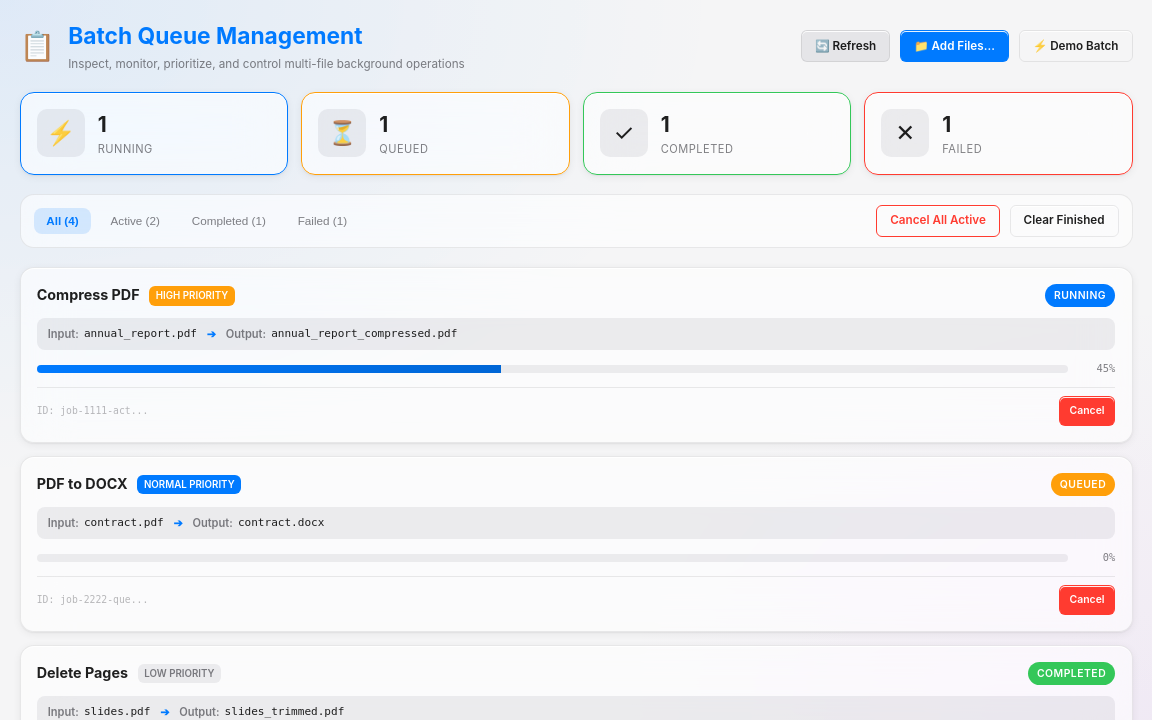
BatchQueueView › filters queue by status tabs
Step 1. Click the button with test id "filter-active" → x=135, y=221, box [98,208,172,234]
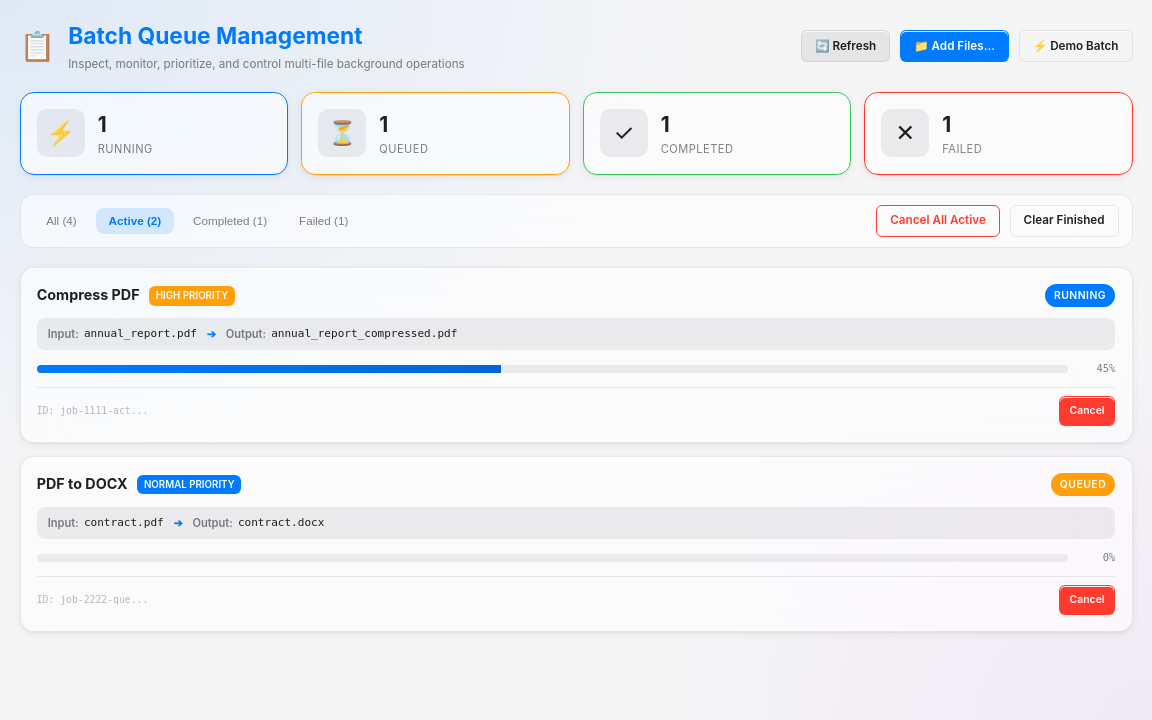
Expected: the text "Compress PDF" is shown, [37,286,140,306]
Expected: the text "PDF to DOCX" is shown, [37,474,128,495]
Filter: Completed (1)
Step 2. Click the button with test id "filter-completed" → x=230, y=221, box [180,208,280,234]
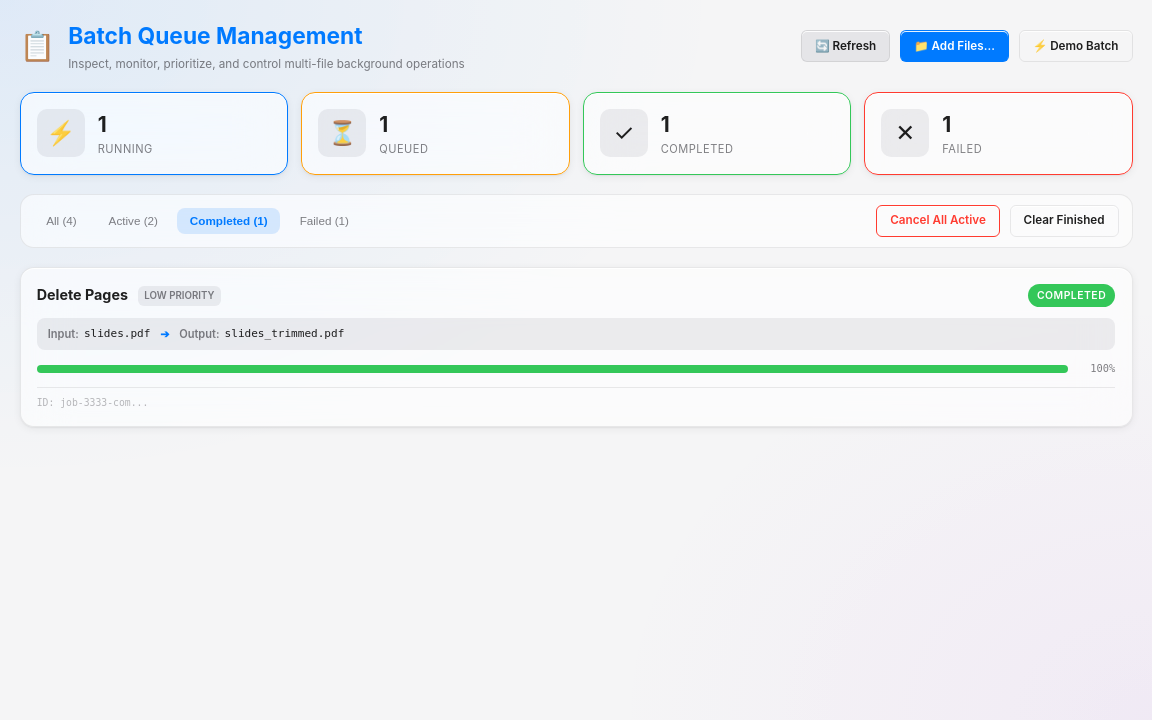
Result: the text "Delete Pages" is shown at [37,286,128,306]
Filter: Failed (1)
Step 3. Click the button with test id "filter-failed" → x=324, y=221, box [287,208,362,234]
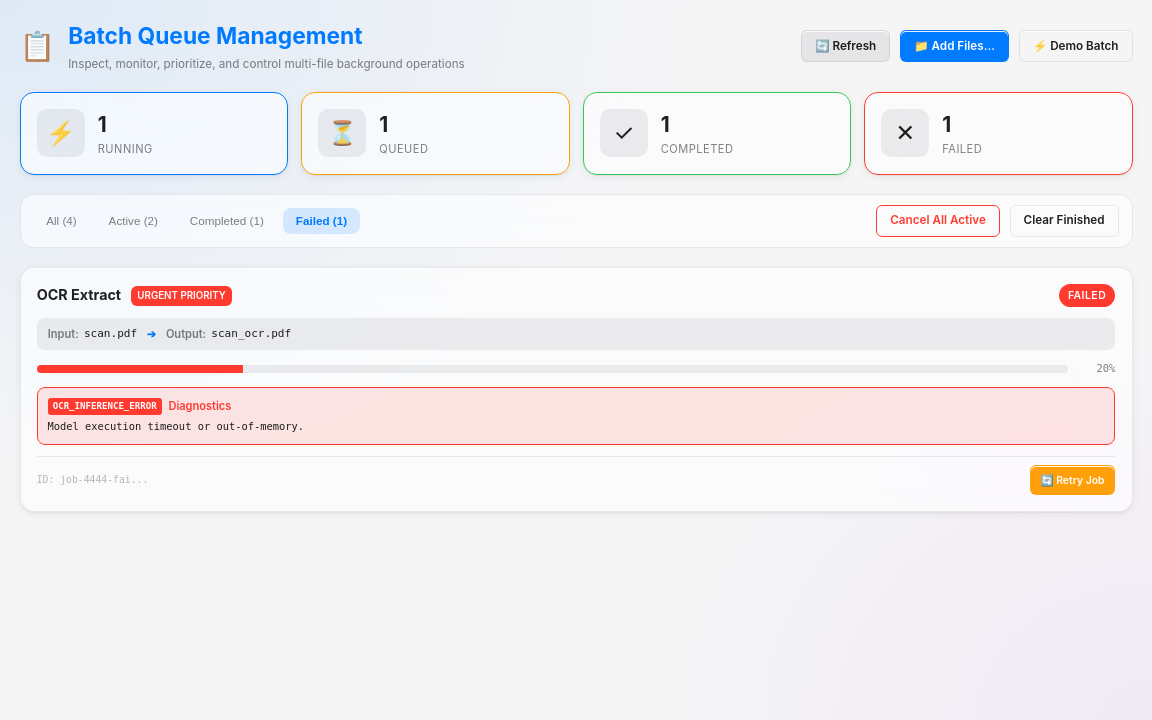
Result: the text "OCR Extract" is shown at [37,286,121,306]
Result: the text "OCR_INFERENCE_ERROR" is shown at [48,398,162,415]
